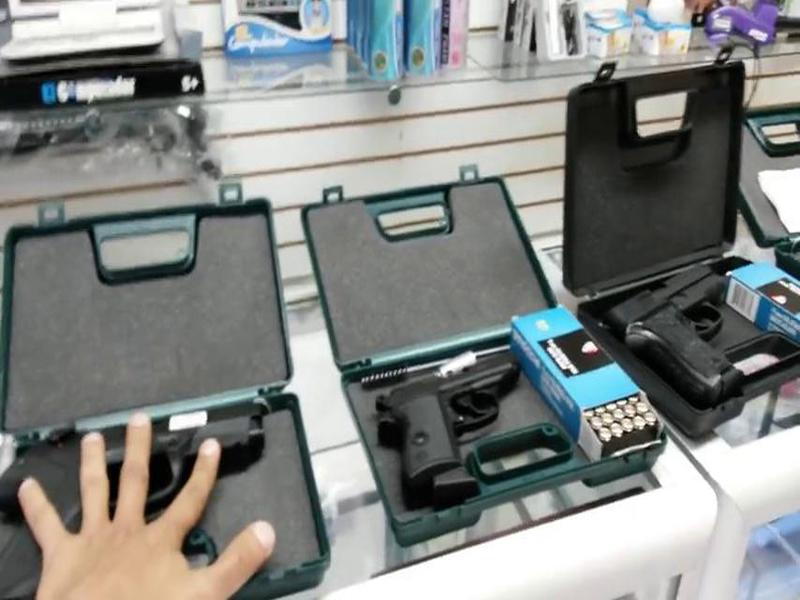Pistola: (1, 388, 297, 593), (585, 250, 767, 426), (365, 345, 529, 529)
